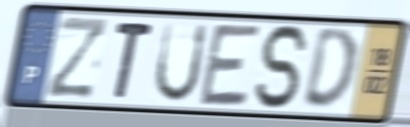D: (299, 26, 359, 115)
E: (196, 21, 265, 110)
S: (253, 21, 313, 113)
T: (112, 18, 157, 102)
U: (151, 19, 212, 106)
Z: (43, 13, 112, 101)
